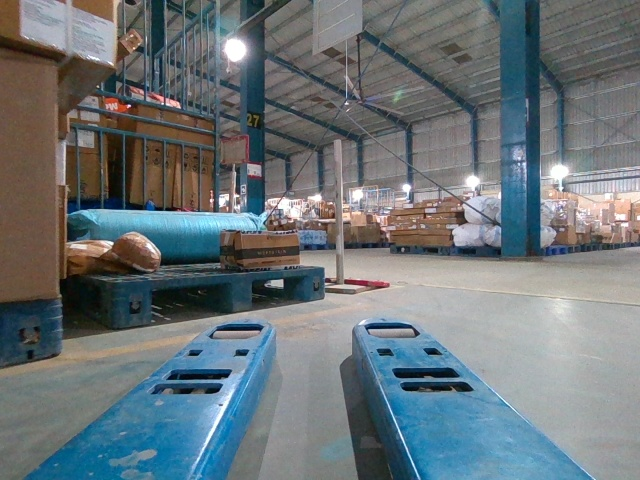block: (112, 281, 156, 327), (222, 275, 254, 310), (298, 268, 326, 303)
front: (118, 265, 324, 328)
hole pallet: (154, 285, 227, 319), (252, 279, 307, 308)
